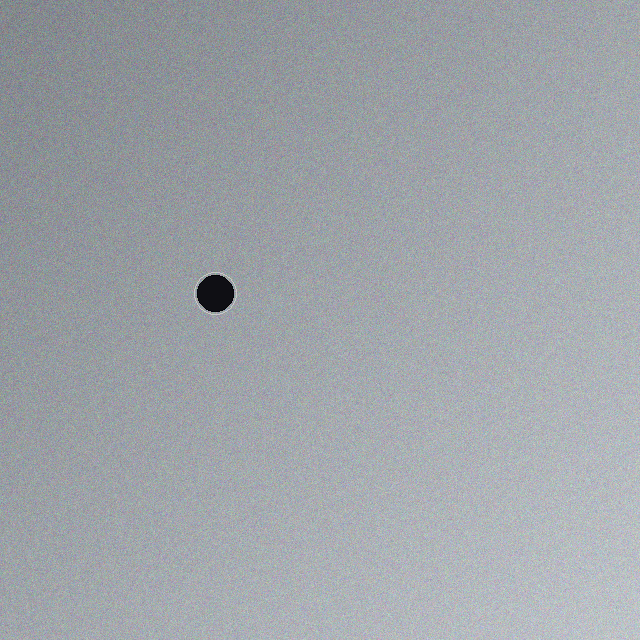defect: (192, 270, 238, 316)
